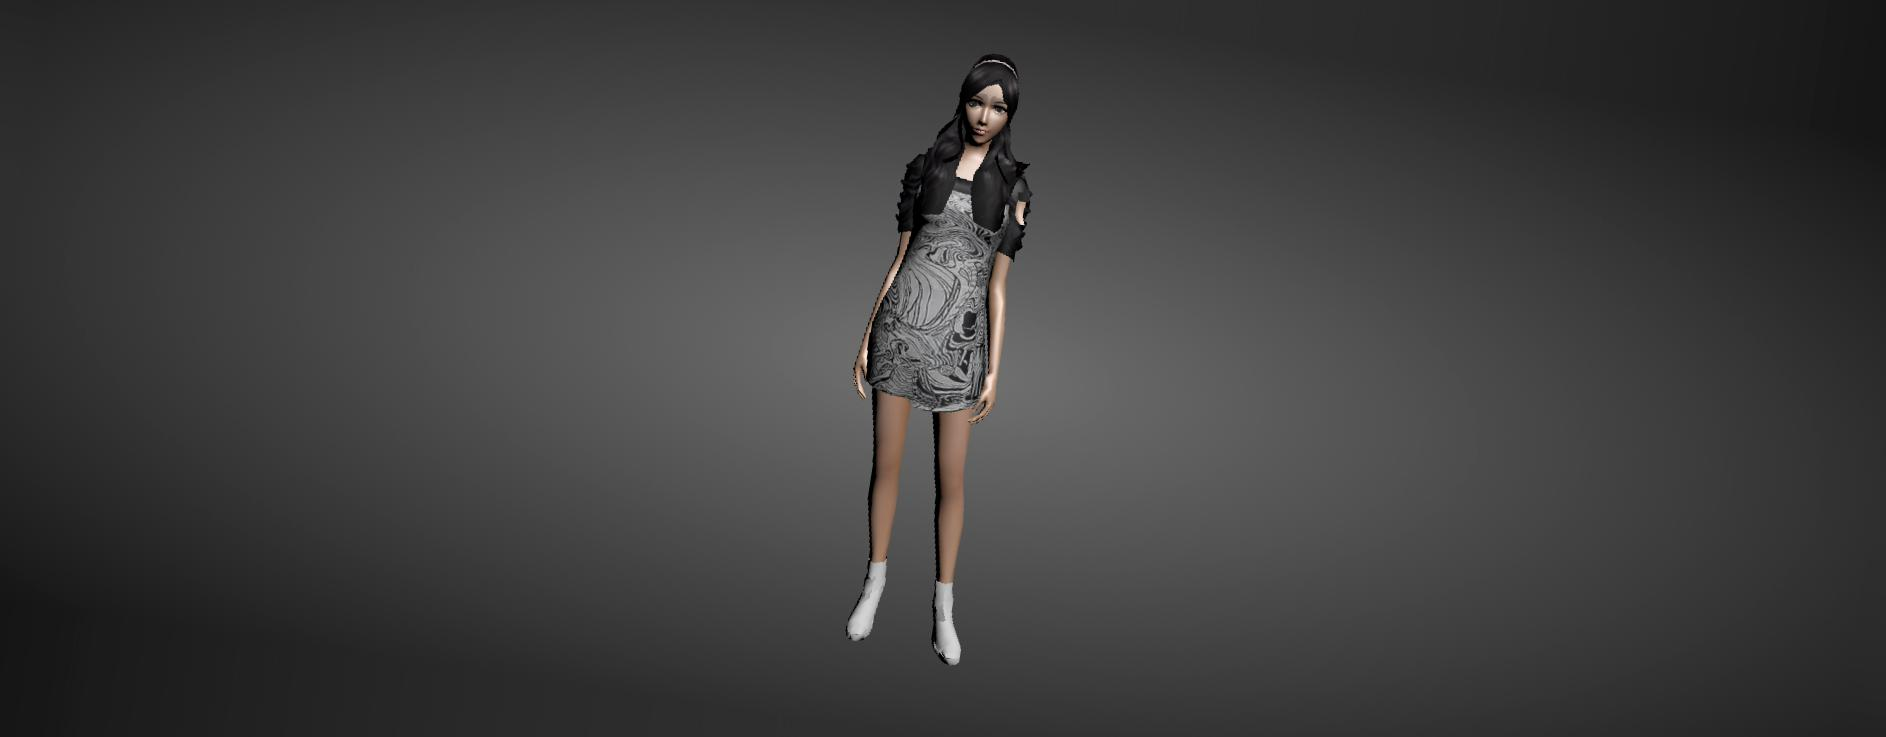clip: (1014, 196, 1031, 230)
